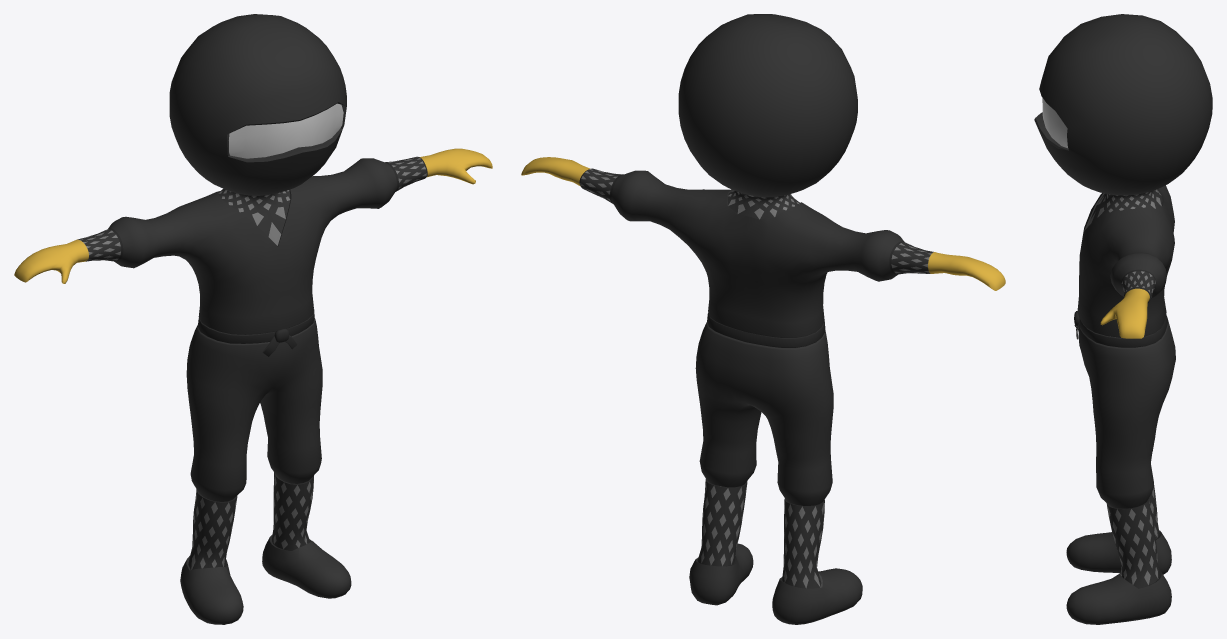
File: ninja.fbx
The picture shows the model from 3 angles, left to right: view 1: azimuth 30°, elevation 25°; view 2: azimuth 150°, elevation 25°; view 3: azimuth 270°, elevation 25°; orthographic projection.
Parts seen in each view (by area): view 1: ninja; view 2: ninja; view 3: ninja.
Boxes of the visible parts, x1,y1,x2,y2 form: ninja: [14, 14, 492, 624]; ninja: [521, 14, 1005, 624]; ninja: [1034, 14, 1212, 624].
Size of the model in its own units: 1.56 by 0.5159 by 1.81.
